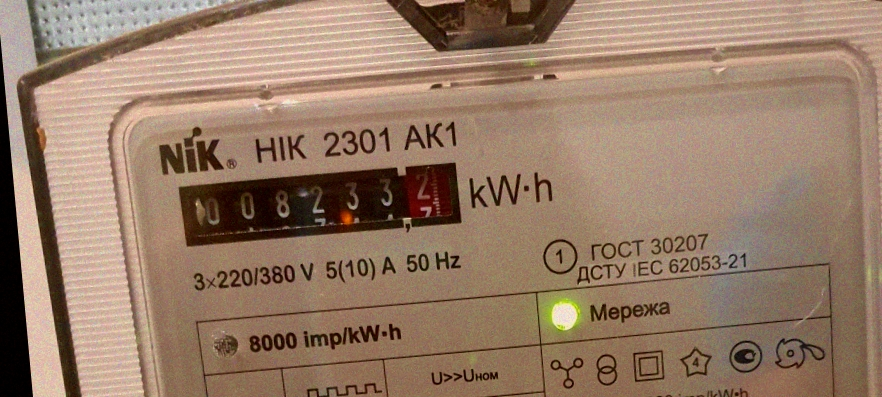0: (200, 193, 223, 227), (236, 189, 257, 221)
2: (304, 182, 327, 216), (412, 169, 432, 202)
3: (341, 179, 361, 211), (376, 174, 395, 207)
8: (271, 186, 291, 219)
screen: (166, 149, 473, 257)
